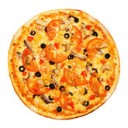pepperonipizza: (5, 8, 124, 120)
